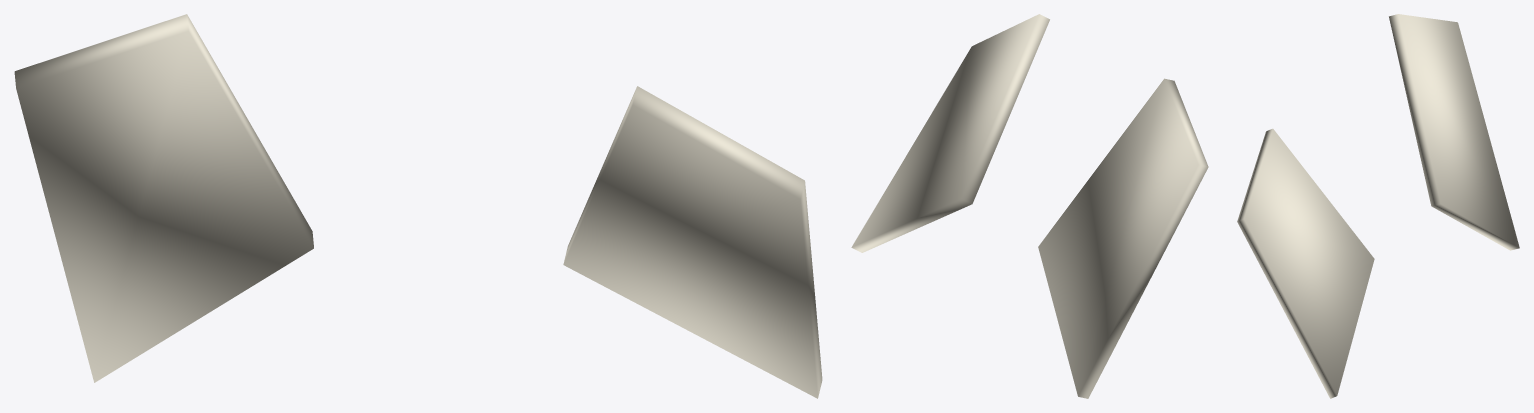
3 renders of one model, left to right at view 1: azimuth 30°, elevation 25°; view 2: azimuth 150°, elevation 25°; view 3: azimuth 270°, elevation 25°, orthographic. The views are drawn at different scales.
Visible parts, largest first — view 1: ZA_1e6a9e2bfe65cc7a; view 2: ZA_1e6a9e2bfe65cc7a; view 3: ZA_1e6a9e2bfe65cc7a.
Part boxes in pixels (<box>): ZA_1e6a9e2bfe65cc7a: <box>14,14,822,398</box>; ZA_1e6a9e2bfe65cc7a: <box>851,14,1208,398</box>; ZA_1e6a9e2bfe65cc7a: <box>1237,14,1519,398</box>.
Bounding box in the file's own units: 0.0179 × 0.0116 × 0.0122.
